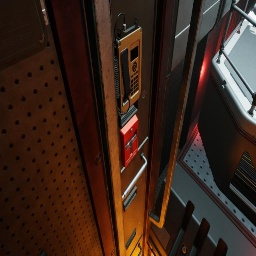EmergencyPhone ,: (114, 12, 142, 115)
FireAlarm ,: (120, 114, 138, 168)
